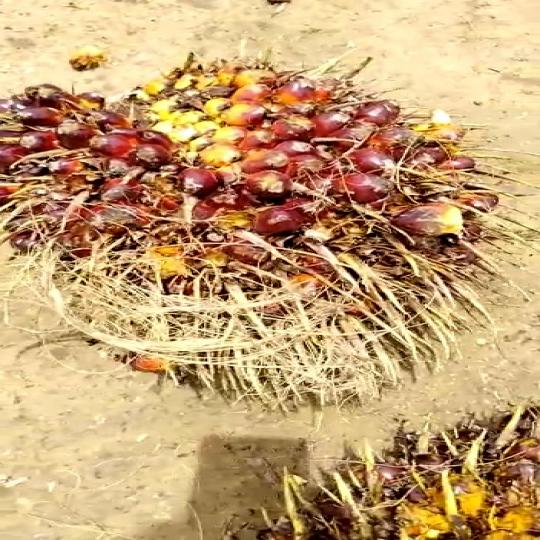masak: (0, 62, 529, 399)
